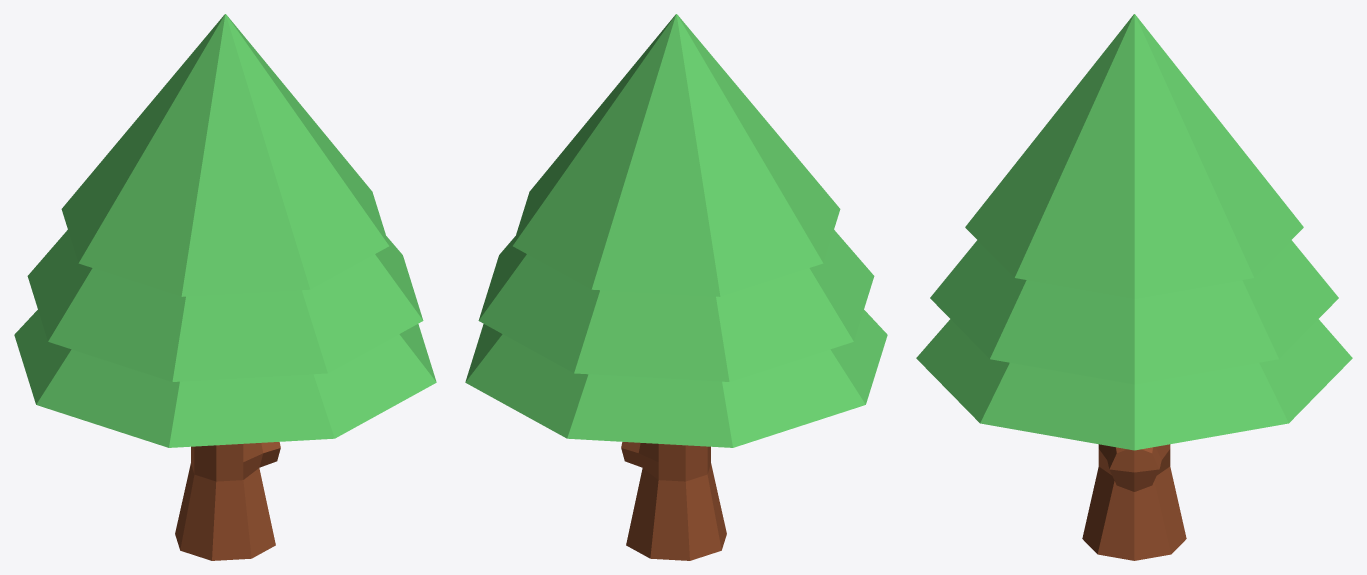
File: cone tree.fbx
3 views of the same model, side by side, from view 1: azimuth 30°, elevation 25°; view 2: azimuth 150°, elevation 25°; view 3: azimuth 270°, elevation 25° (orthographic).
Parts seen in each view (by area): view 1: Cone Tree; view 2: Cone Tree; view 3: Cone Tree.
Part boxes in pixels (bbox=[...]): Cone Tree: bbox=[14, 14, 436, 560]; Cone Tree: bbox=[465, 14, 887, 560]; Cone Tree: bbox=[916, 14, 1352, 560].
Bounding box in the file's own units: 222 × 295 × 222.
